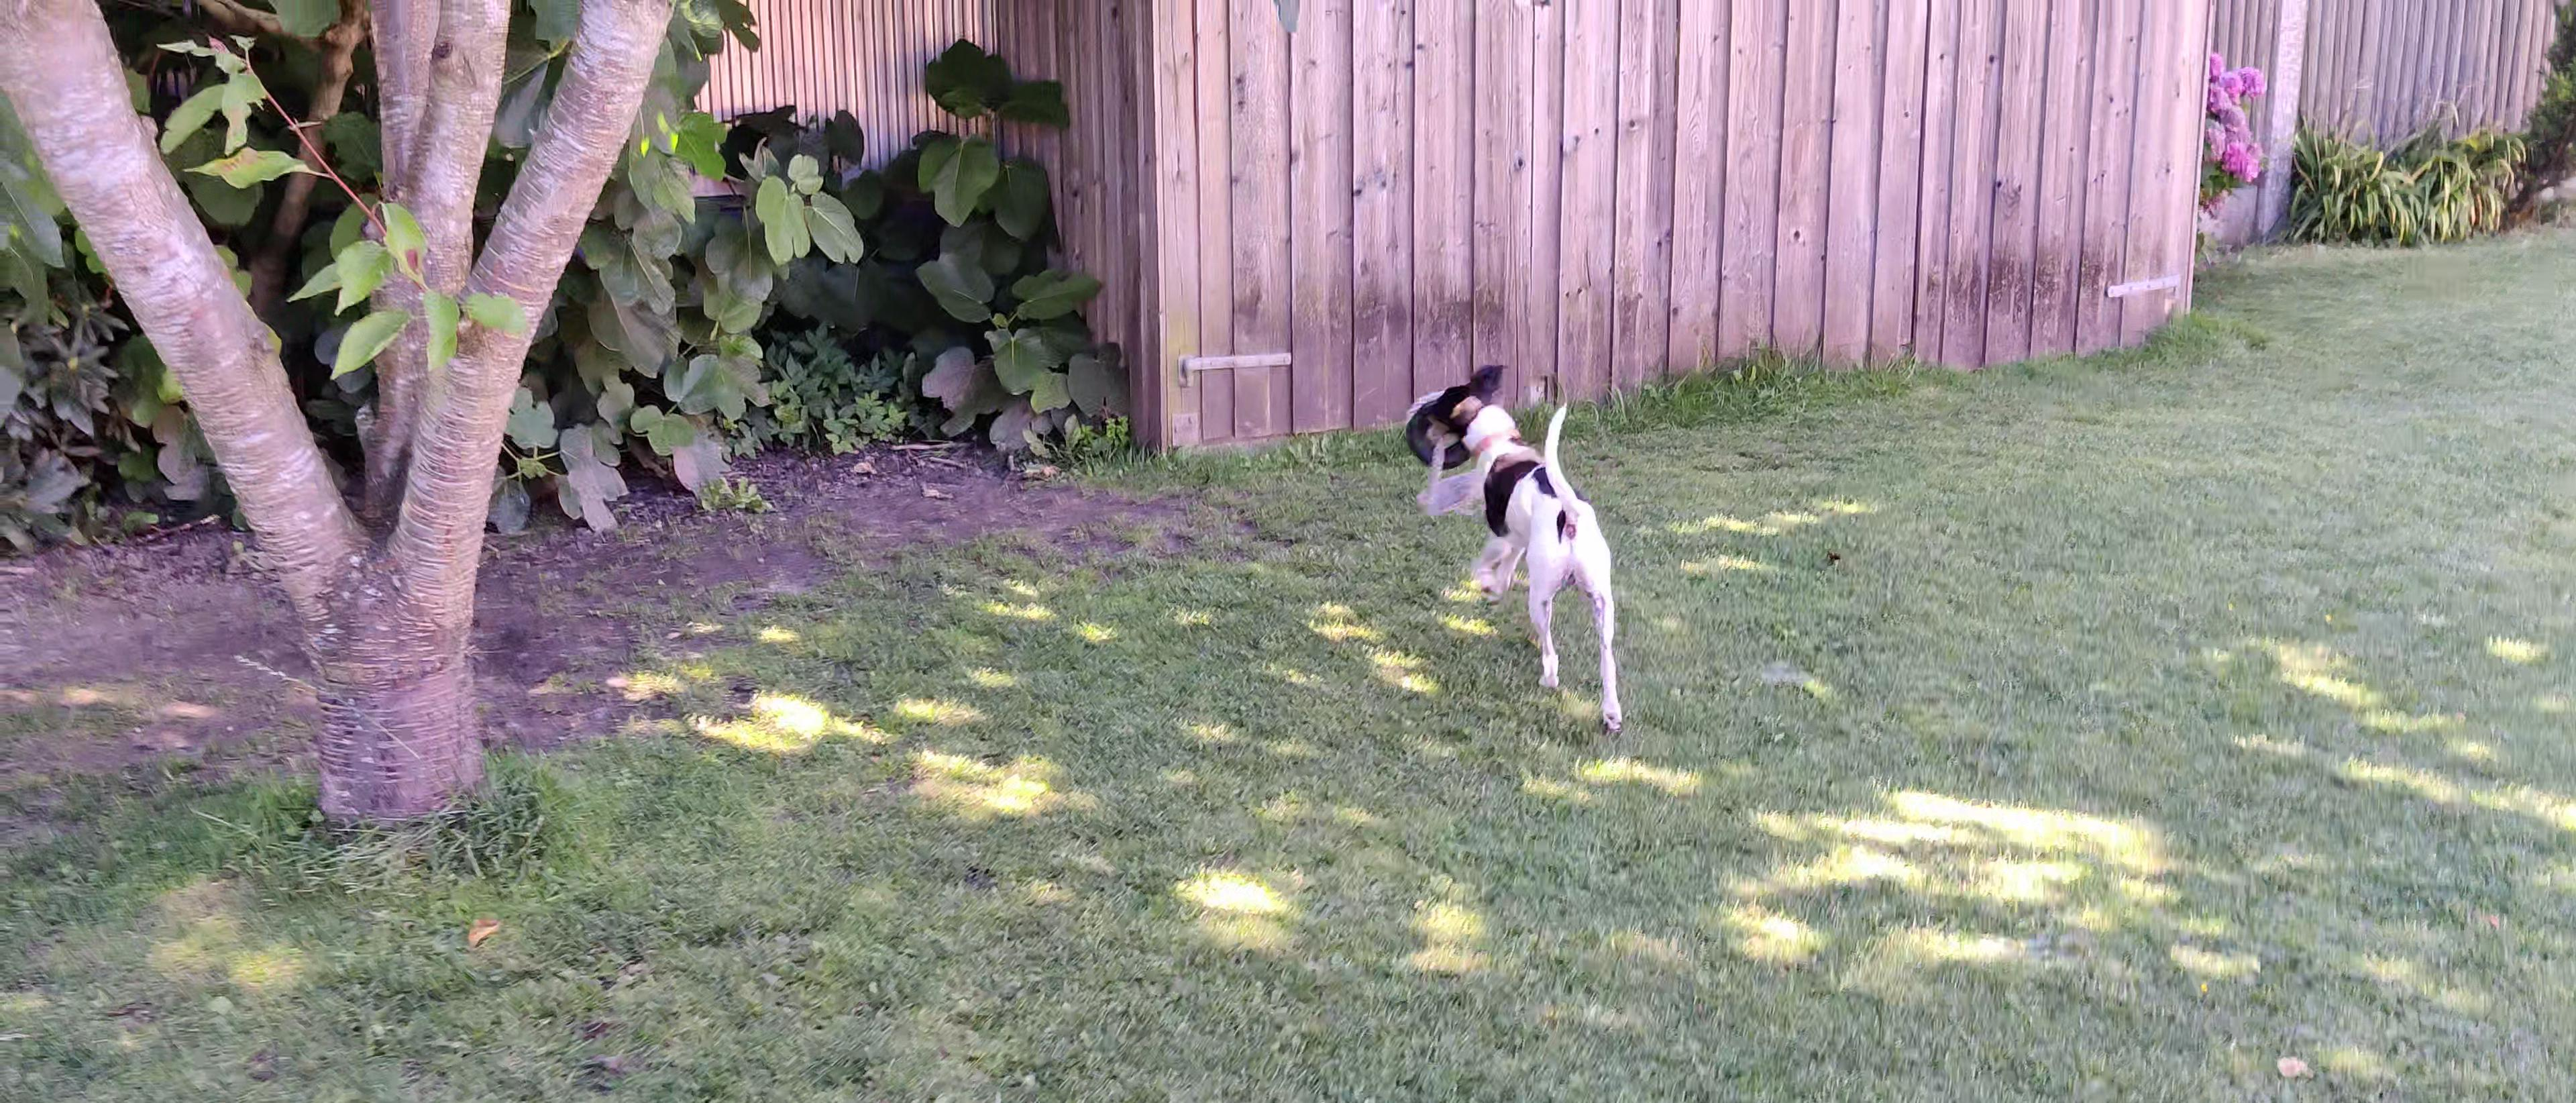Dog: (1423, 363, 1628, 733)
